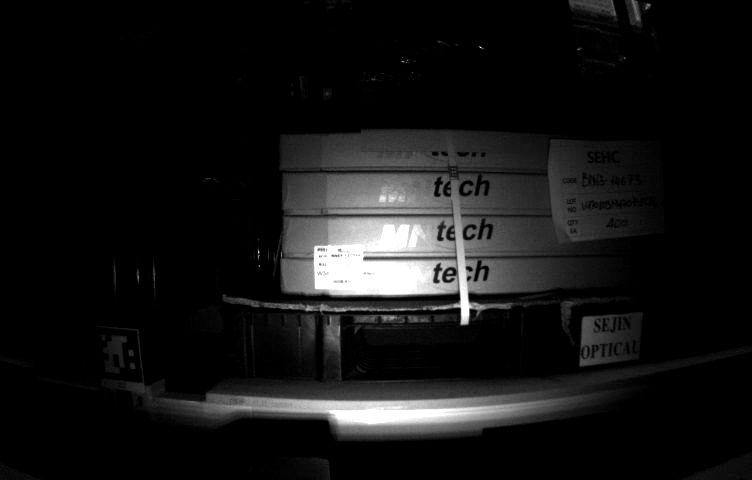True Barcode: (312, 242, 370, 291)
